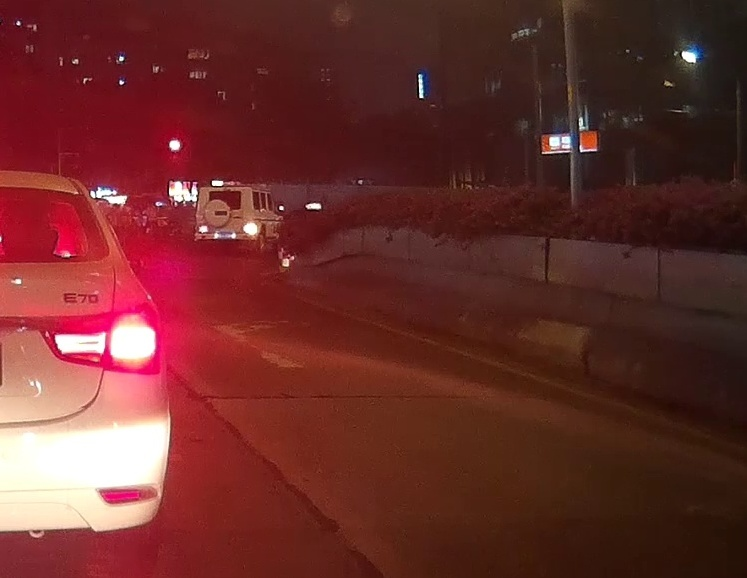L_light: (197, 225, 212, 233)
R_light: (241, 223, 257, 234)
T_light: (220, 189, 231, 193)
night-right: (193, 186, 261, 253)
